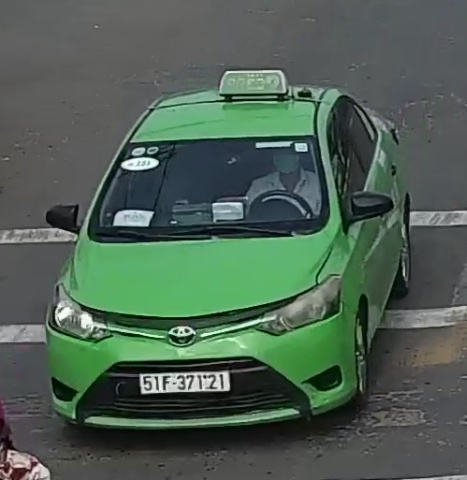vehicle plate: (135, 367, 234, 394)
